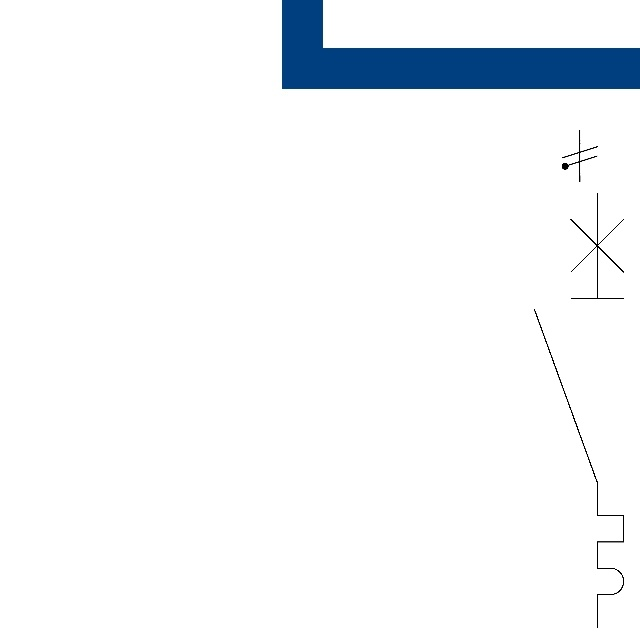interruptor_termomagnetico: (523, 181, 635, 638)
